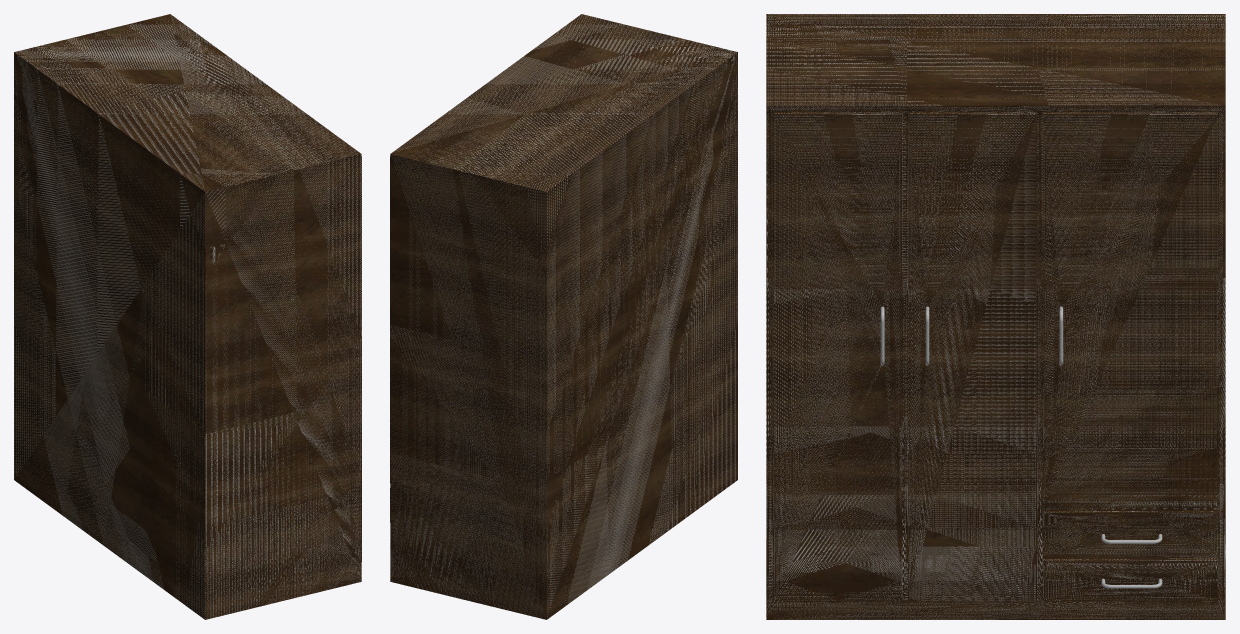
The picture shows the model from 3 angles, left to right: view 1: azimuth 30°, elevation 25°; view 2: azimuth 150°, elevation 25°; view 3: azimuth 270°, elevation 25°; orthographic projection. The views are drawn at different scales.
Visible parts, largest first — view 1: mesh3_mesh3-geometry; view 2: mesh3_mesh3-geometry; view 3: mesh3_mesh3-geometry.
Boxes of the visible parts, bbox=[...] form: mesh3_mesh3-geometry: bbox=[14, 14, 361, 619]; mesh3_mesh3-geometry: bbox=[390, 14, 737, 619]; mesh3_mesh3-geometry: bbox=[766, 14, 1225, 619].
Size of the model in its own units: 0.3109 by 0.7386 by 0.5981.
